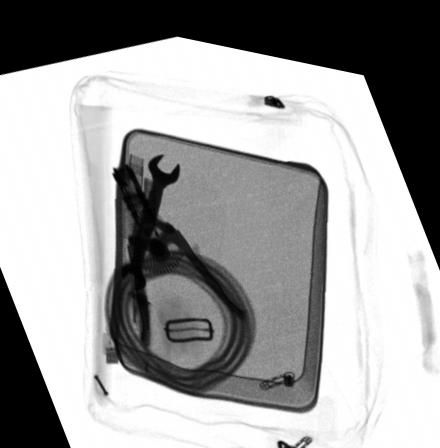Pliers: (108, 152, 242, 340)
Wrench: (120, 144, 178, 285)
